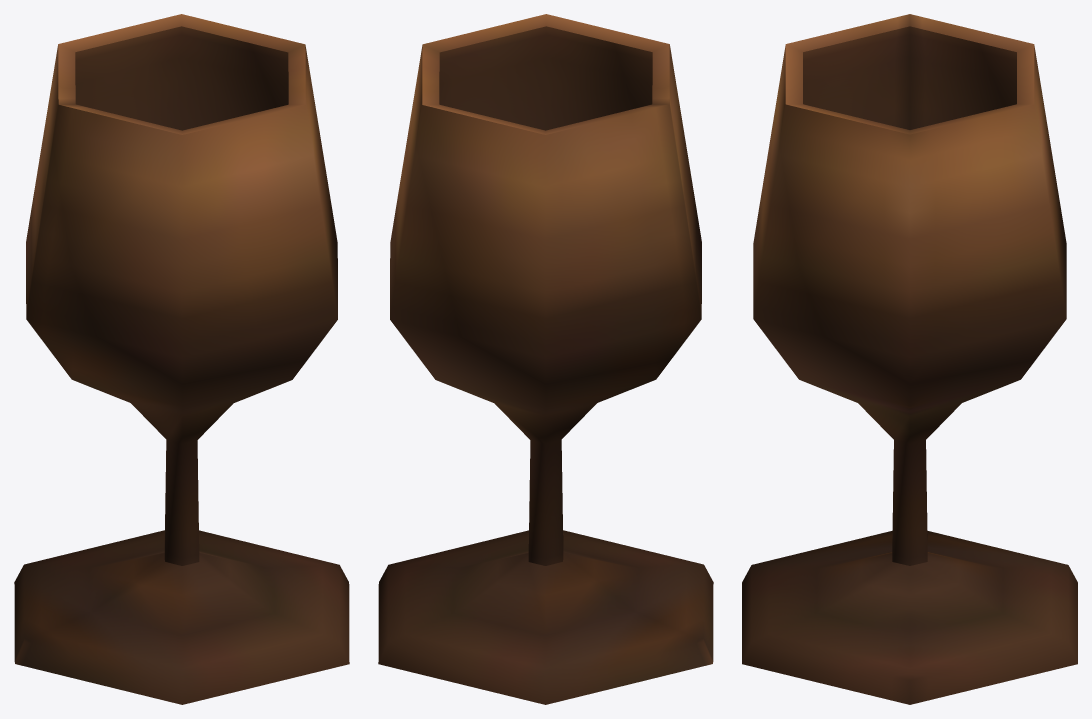
The model's file is Wine_Glass.gltf.
3 views of the same model, side by side, from view 1: azimuth 30°, elevation 25°; view 2: azimuth 150°, elevation 25°; view 3: azimuth 270°, elevation 25° (orthographic).
Visible parts, largest first — view 1: Wine_Glass; view 2: Wine_Glass; view 3: Wine_Glass.
Boxes of the visible parts, x1=… form: Wine_Glass: x1=14, y1=14, x2=349, y2=704; Wine_Glass: x1=378, y1=14, x2=713, y2=704; Wine_Glass: x1=742, y1=14, x2=1077, y2=704.
Bounding box in the file's own units: 5.74 × 9 × 4.99.
1 material, 1 textured.
